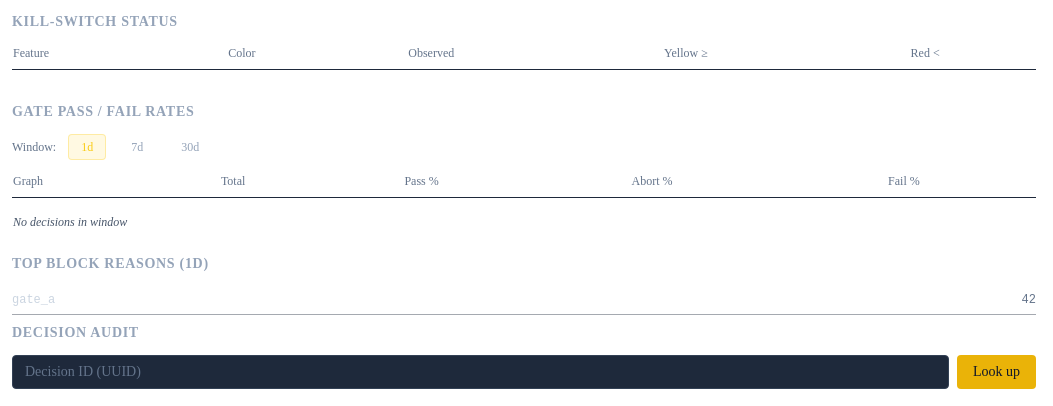
Test case: GateMetricsDashboard — top block reasons title › updates title to "(30d)" when 30d selected
The width and height of the screenshot is (1053, 406).
Expected: the heading "Top Block Reasons (1d)" is shown, [12,256,209,271]
Click the button "30d".
click(190, 147)  # box [168,134,212,160]
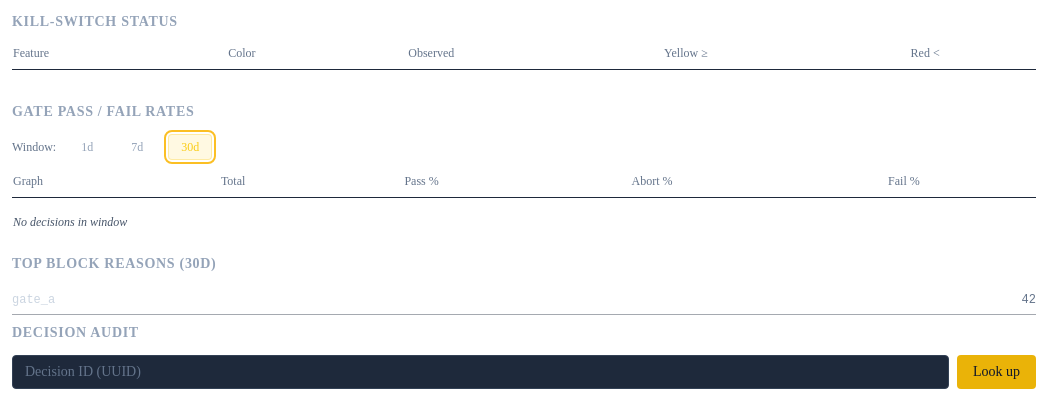
Result: the heading "Top Block Reasons (30d)" is shown at [12,256,216,271]
